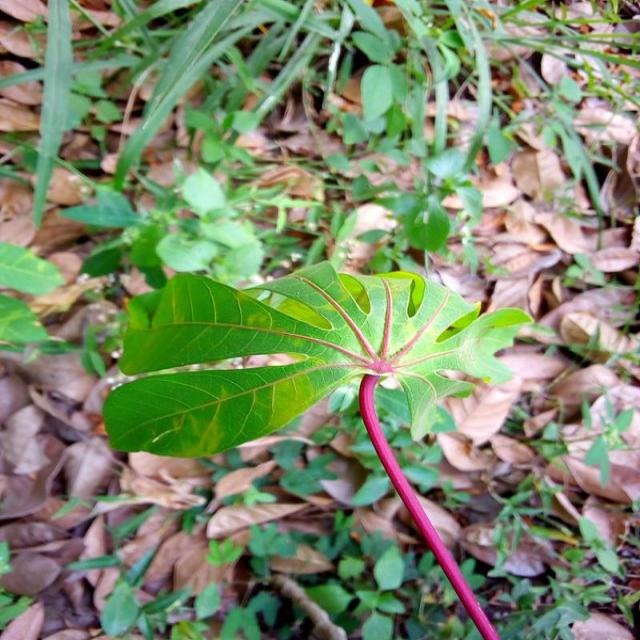cassava leaf: (101, 259, 533, 460)
